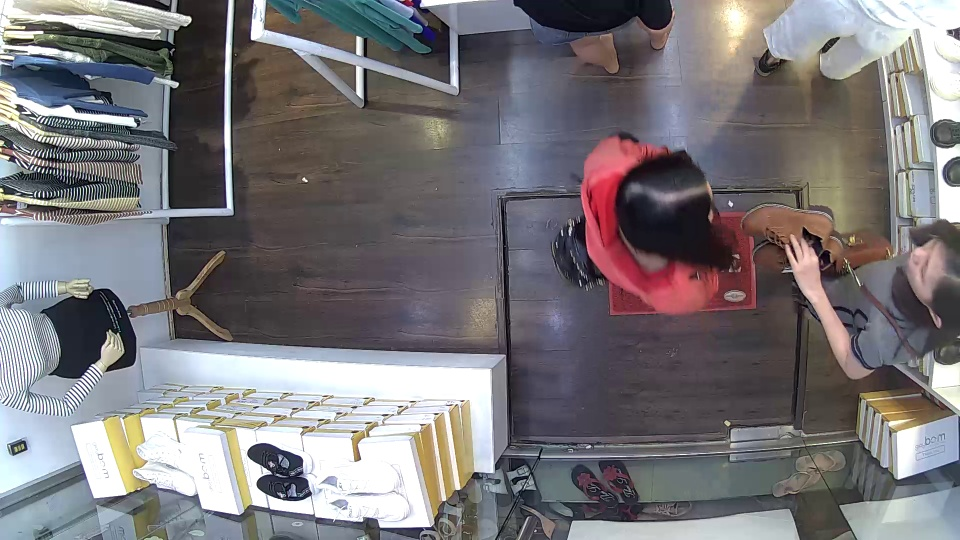topviewhead: (615, 147, 724, 257)
